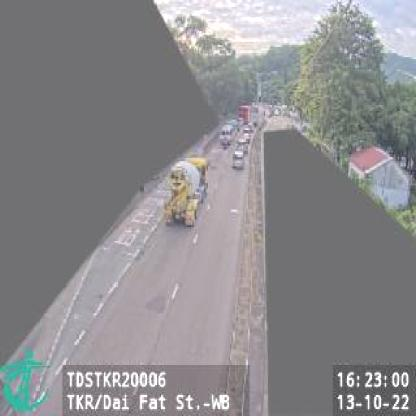Bus: (220, 125, 233, 146)
Car: (232, 148, 246, 170)
Truck: (164, 154, 210, 227)
